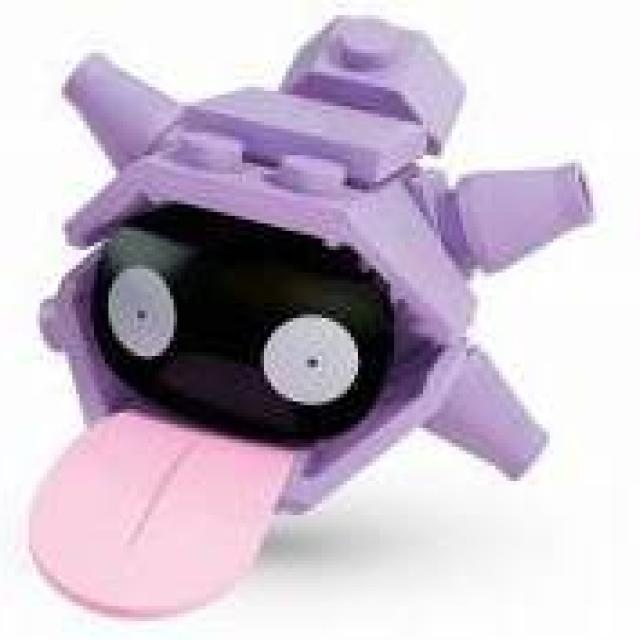Shellder: (23, 21, 621, 618)
